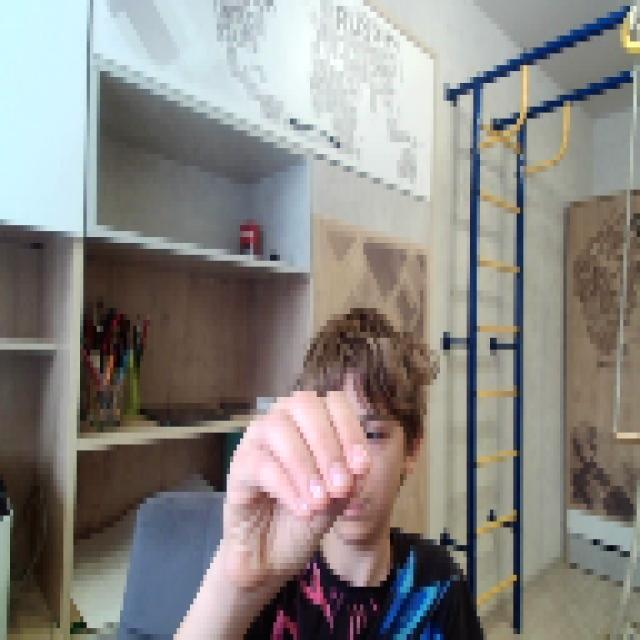left_click: (220, 385, 367, 569)
